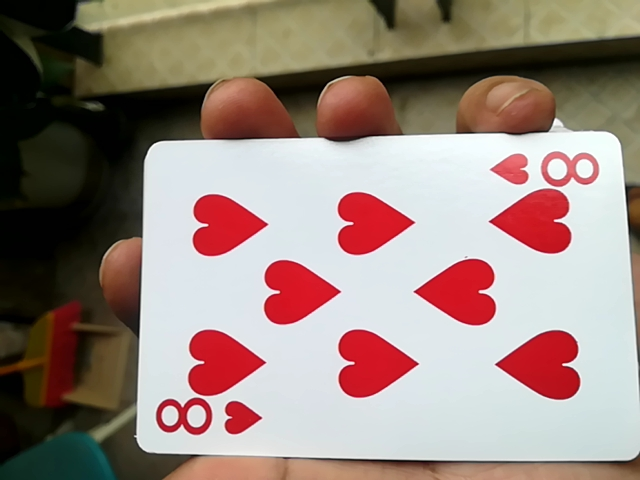hx 8: (128, 128, 623, 473)
